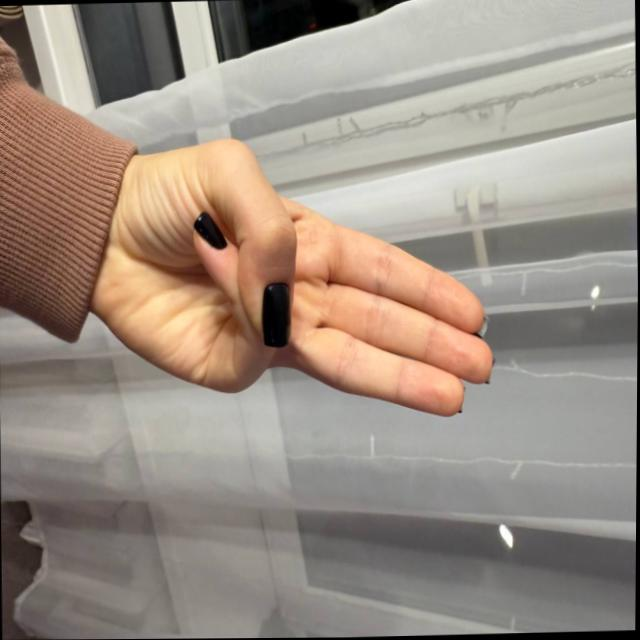sh: (122, 114, 508, 472)
